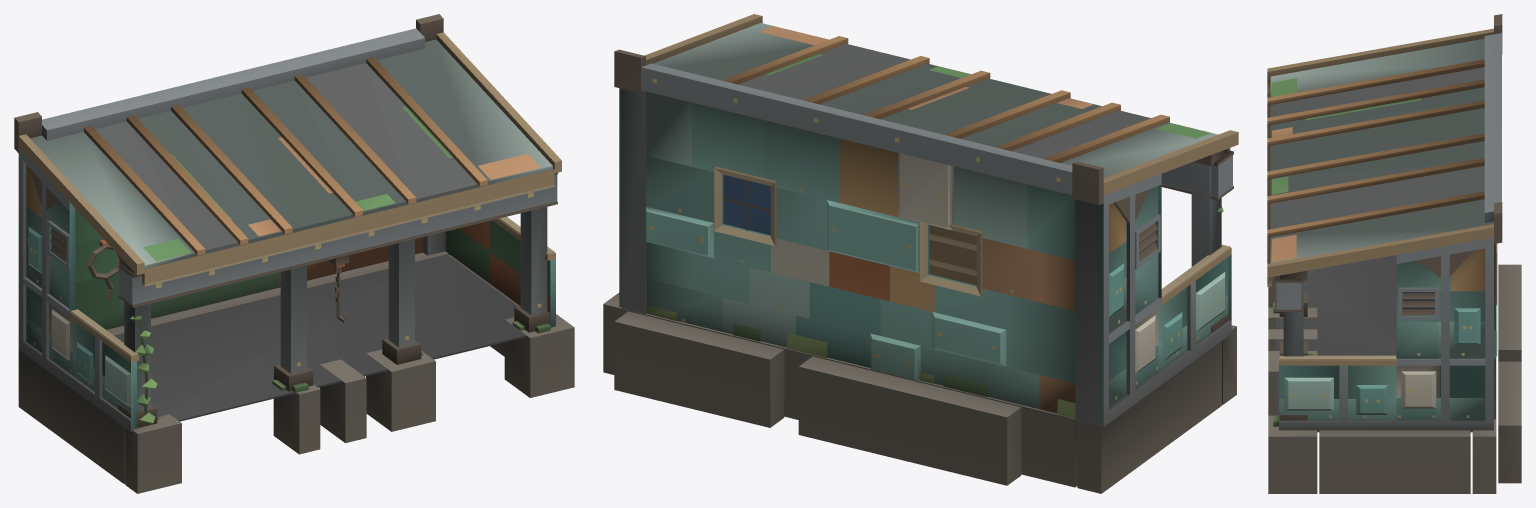
The model's file is shed.glb.
3 renders of one model, left to right at view 1: azimuth 30°, elevation 25°; view 2: azimuth 150°, elevation 25°; view 3: azimuth 270°, elevation 25°, orthographic. The views are drawn at different scales.
Visible parts, largest first — view 1: shed.001; view 2: shed.001; view 3: shed.001.
Part boxes in pixels (bbox=[...]): shed.001: bbox=[14, 14, 574, 493]; shed.001: bbox=[603, 14, 1238, 493]; shed.001: bbox=[1267, 14, 1521, 493].
Size of the model in its own units: 9.48 by 5.94 by 4.98.
